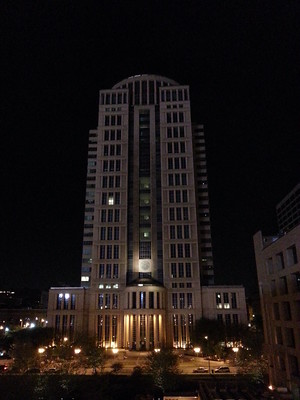low: (75, 68, 221, 358)
